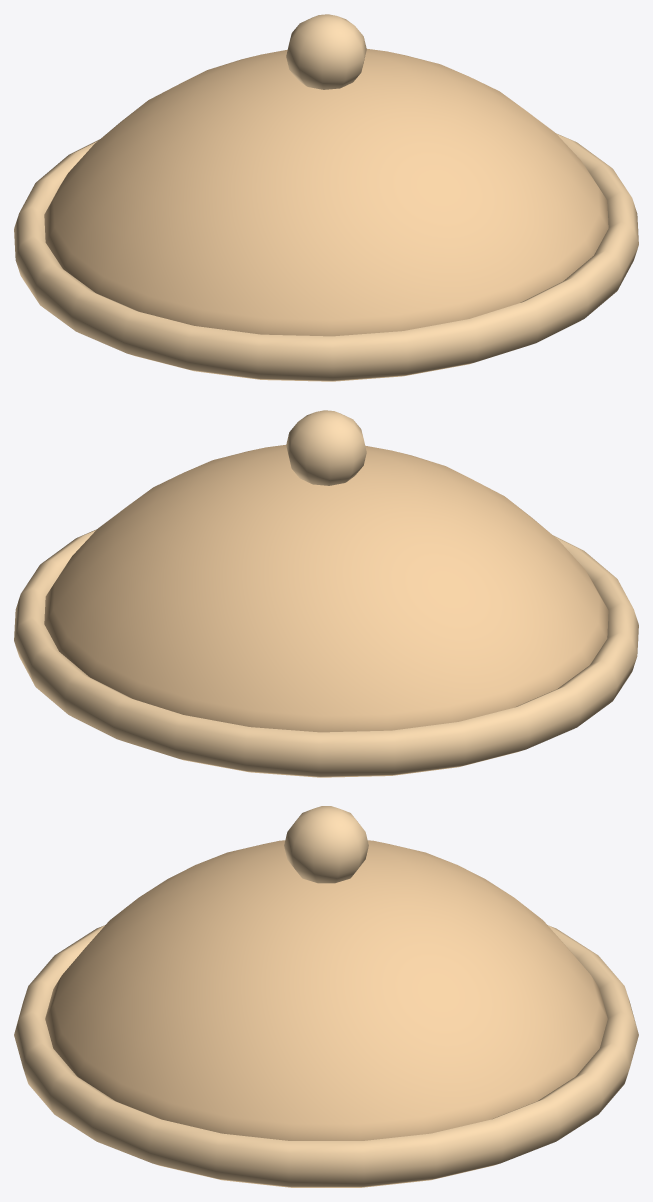
File: beanie.glb
3 renders of one model, top to bottom at view 1: azimuth 30°, elevation 25°; view 2: azimuth 150°, elevation 25°; view 3: azimuth 270°, elevation 25°, orthographic. The views are drawn at different scales.
Parts seen in each view (by area): view 1: beanie; view 2: beanie; view 3: beanie.
Part boxes in pixels (x1=…): beanie: x1=14, y1=14, x2=638, y2=381; beanie: x1=14, y1=410, x2=638, y2=777; beanie: x1=14, y1=806, x2=638, y2=1187.
Bounding box in the file's own units: 0.4606 × 0.1947 × 0.4438.
